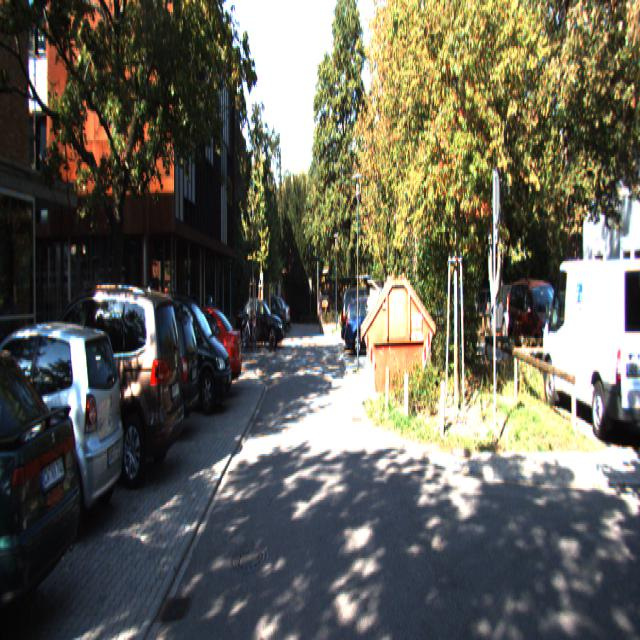Car: (3, 277, 188, 488), (0, 308, 131, 541), (0, 323, 89, 638), (538, 250, 640, 453), (74, 302, 202, 444), (135, 283, 234, 412), (153, 304, 243, 399), (506, 276, 579, 378), (345, 293, 397, 354), (236, 300, 285, 350)
